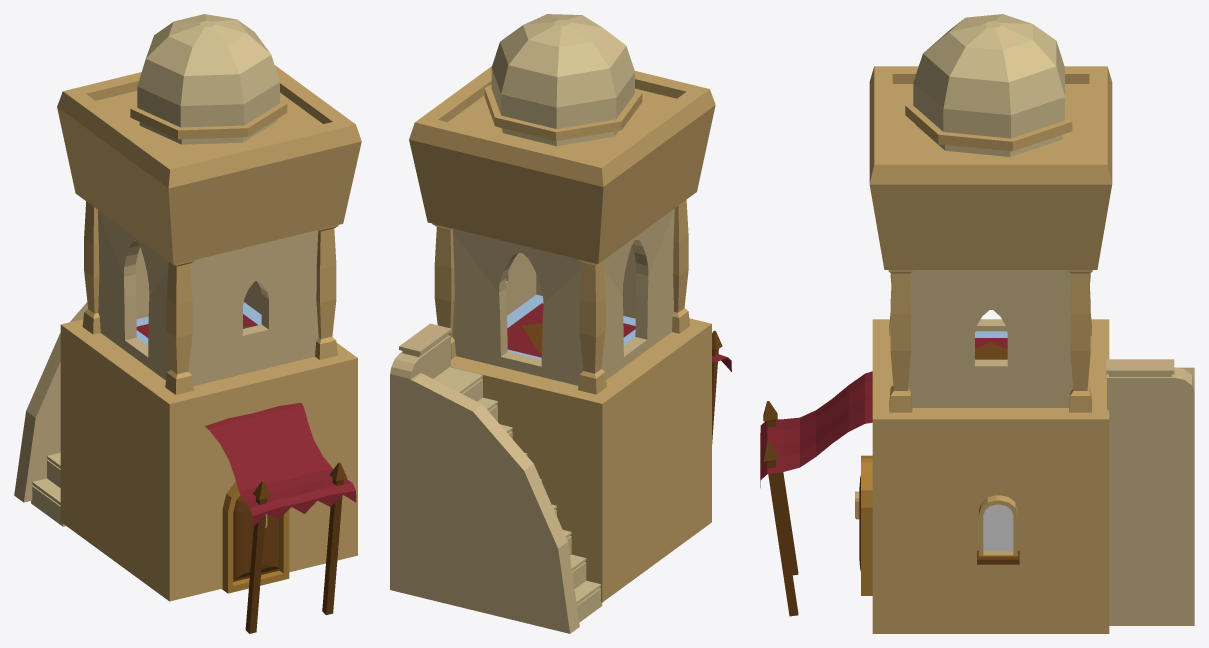
The model's file is balcony.fbx.
3 views of the same model, side by side, from view 1: azimuth 30°, elevation 25°; view 2: azimuth 150°, elevation 25°; view 3: azimuth 270°, elevation 25° (orthographic). The views are drawn at different scales.
Parts seen in each view (by area): view 1: balcony; view 2: balcony; view 3: balcony.
Boxes of the visible parts, x1,y1,x2,y2 form: balcony: (14, 14, 361, 633); balcony: (390, 14, 731, 633); balcony: (760, 14, 1194, 633).
Bounding box in the file's own units: 1.49 × 3.52 × 2.41.
